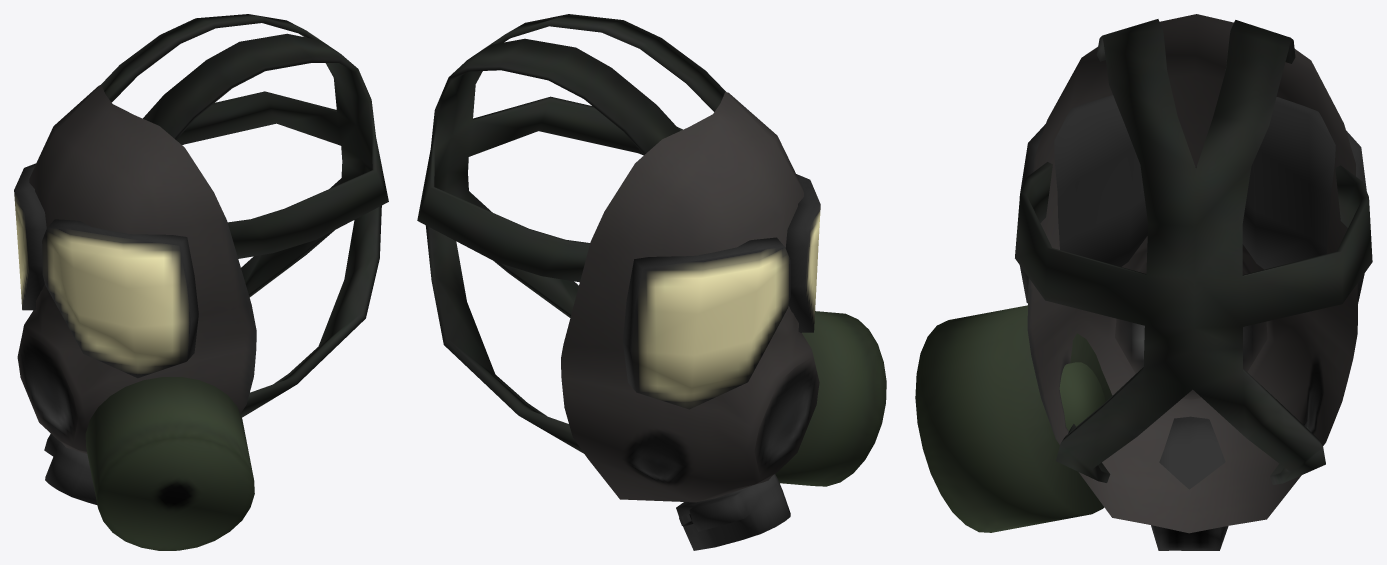
3 views of the same model, side by side, from view 1: azimuth 30°, elevation 25°; view 2: azimuth 150°, elevation 25°; view 3: azimuth 270°, elevation 25° (orthographic). The views are drawn at different scales.
Visible parts, largest first — view 1: Plane.002_Plane.006; view 2: Plane.002_Plane.006; view 3: Plane.002_Plane.006.
Boxes of the visible parts, <box> form: Plane.002_Plane.006: <box>14,14,388,550</box>; Plane.002_Plane.006: <box>417,14,886,550</box>; Plane.002_Plane.006: <box>915,14,1372,550</box>.
Bounding box in the file's own units: 0.2184 × 0.1536 × 0.1733.
